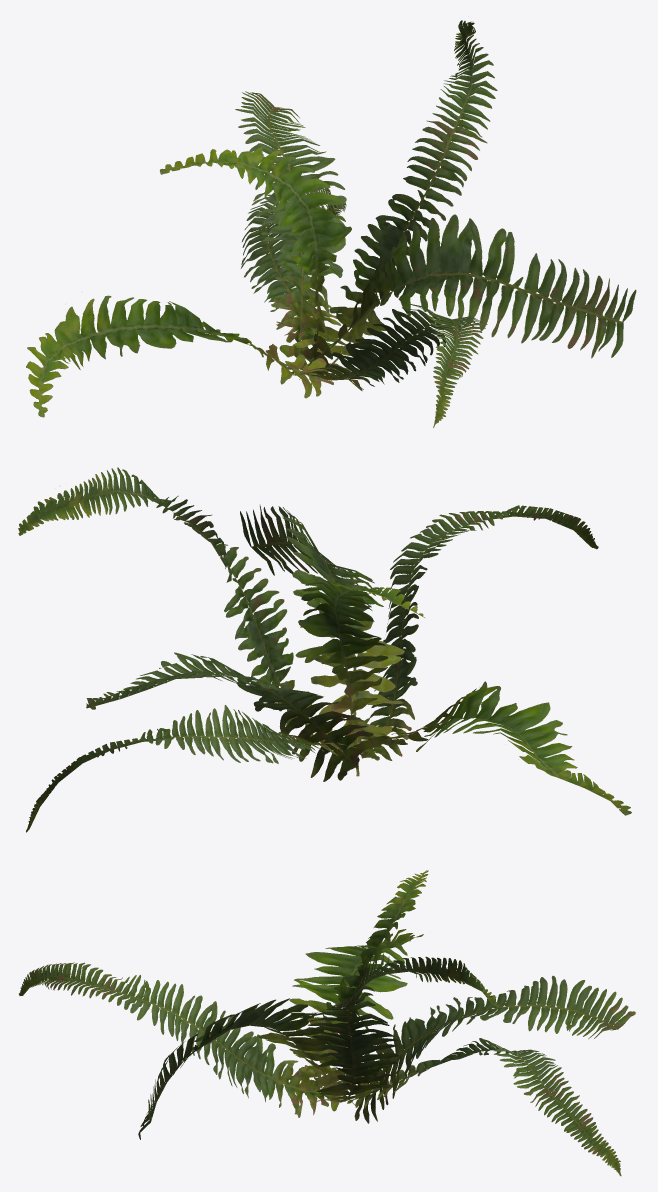
The model's file is Fern_Small_A.fbx.
3 views of the same model, one above another, from view 1: azimuth 30°, elevation 25°; view 2: azimuth 150°, elevation 25°; view 3: azimuth 270°, elevation 25° (orthographic). The views are drawn at different scales.
Parts seen in each view (by area): view 1: Fern_Small_A; view 2: Fern_Small_A; view 3: Fern_Small_A.
Part boxes in pixels (<box>): Fern_Small_A: <box>26,20,636,427</box>; Fern_Small_A: <box>18,467,631,832</box>; Fern_Small_A: <box>19,870,635,1176</box>.
Bounding box in the file's own units: 0.4811 × 0.25 × 0.5347.
Materials: 1 (1 with a texture image).
